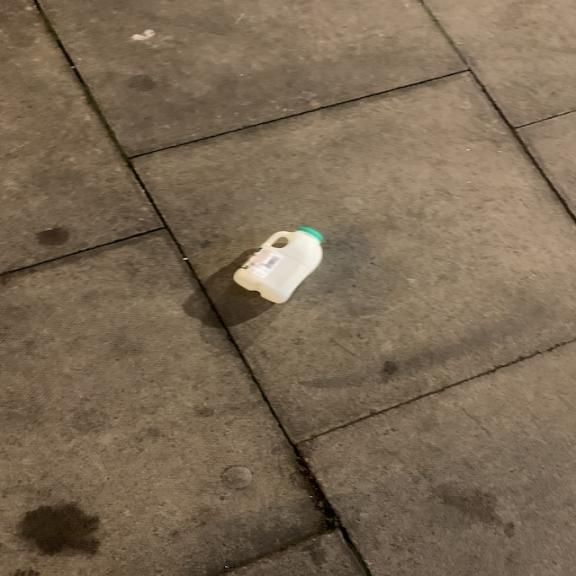Plastik: (233, 226, 325, 312)
